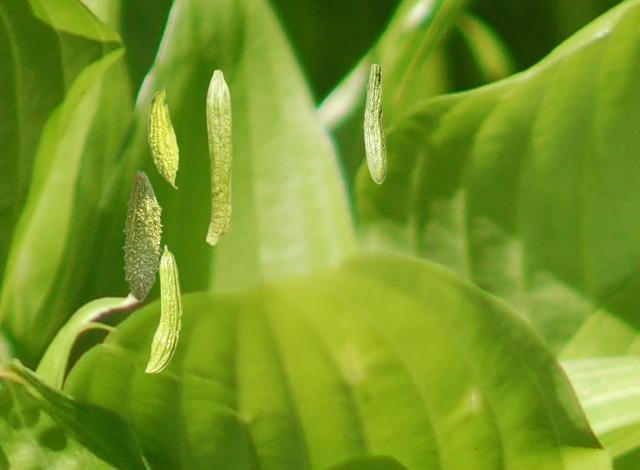ampalaya: (121, 170, 163, 302), (144, 244, 182, 373), (205, 69, 232, 246), (147, 81, 179, 190), (363, 63, 387, 184)
